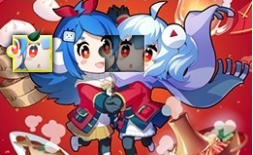gap: (98, 35, 144, 71)
